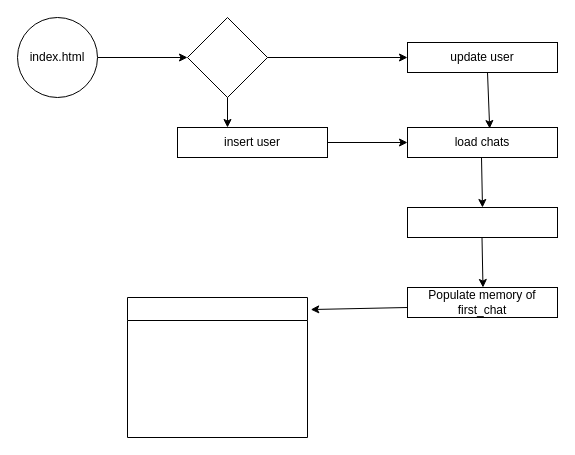
The diagram is 575 pixels wide and 455 high, and some of its shapes have lost their labels. Here are the shapes that lost their labels. From the top down, the centre of each, then its label:
the point at 227,57: /login
the point at 482,222: chat_details_of_first_chat
the point at 217,367: Chats Page
